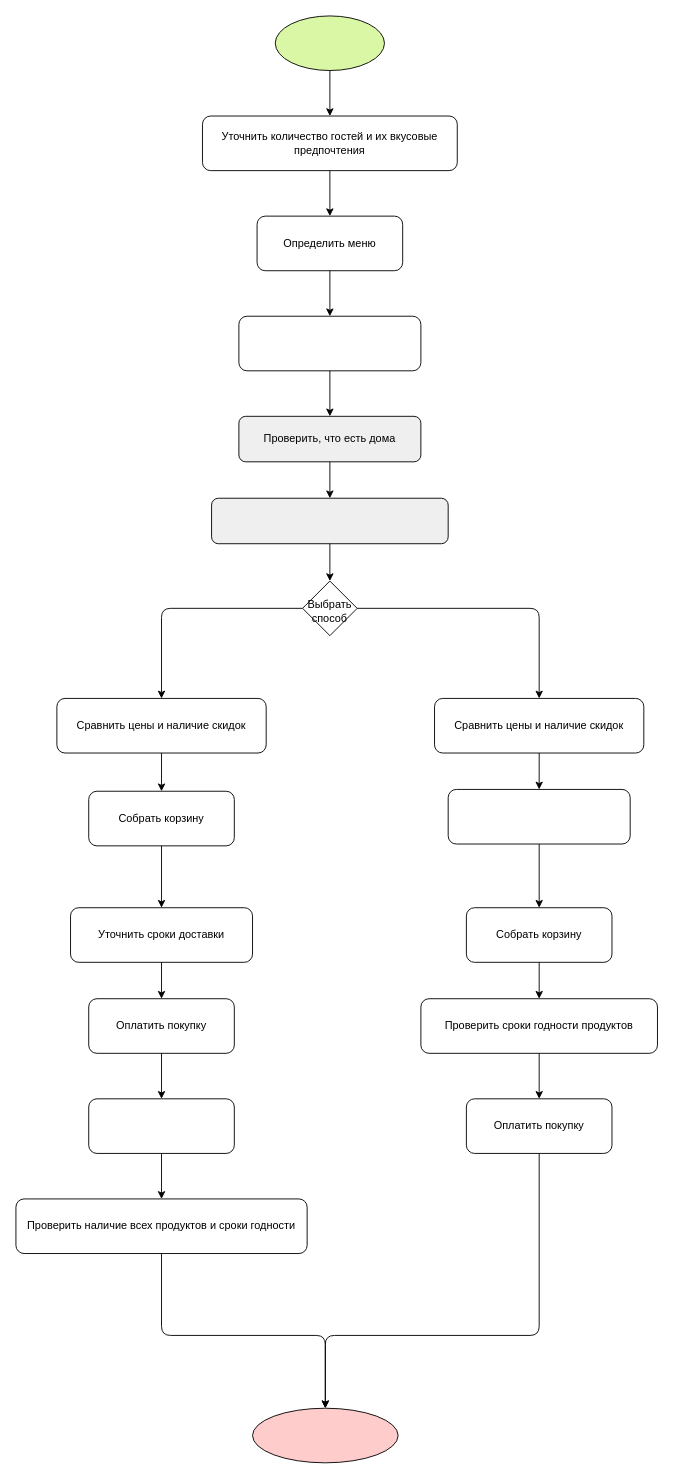
The diagram is 673 pixels wide and 1479 high, and some of its shapes have lost their labels. Here are the shapes that lost their labels. From the top down, the centre of each, then its label:
At [329,43]: "Начало планирования покупки".
At [329,343]: "Составить список продуктов".
At [329,520]: "Уточнить окончательный список продуктов".
At [538,816]: "Уточнить время поездки".
At [161,1125]: "Получить продукты".
At [325,1435]: "Продукты куплены и проверены".
